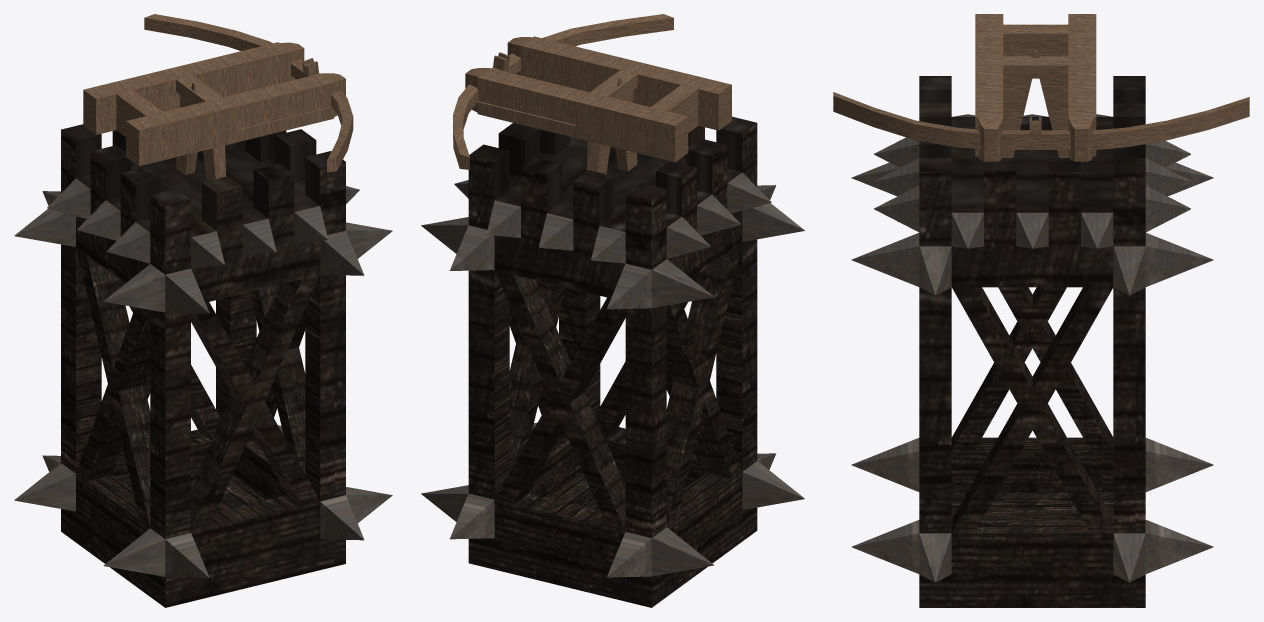
The model's file is tower.FBX.
The picture shows the model from 3 angles, left to right: view 1: azimuth 30°, elevation 25°; view 2: azimuth 150°, elevation 25°; view 3: azimuth 270°, elevation 25°; orthographic projection. The views are drawn at different scales.
Visible parts, largest first — view 1: Tower2, Box002; view 2: Tower2, Box002; view 3: Tower2, Box002.
Part boxes in pixels (left/top/right/bottom): Tower2: left=14, top=124, right=392, bottom=607; Box002: left=83, top=14, right=353, bottom=180; Tower2: left=421, top=116, right=804, bottom=607; Box002: left=453, top=14, right=731, bottom=174; Tower2: left=851, top=76, right=1213, bottom=607; Box002: left=833, top=14, right=1249, bottom=166.
Bounding box in the file's own units: 80 × 123 × 91.96.
Materials: 2 (2 with a texture image).
